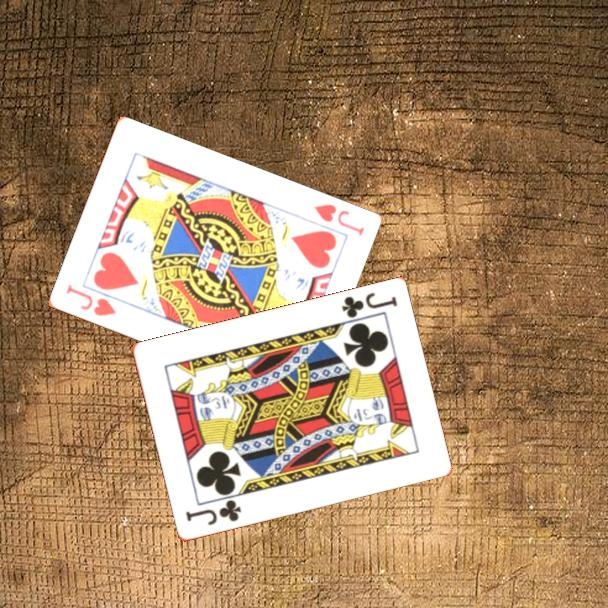c11: (182, 497, 244, 529), (338, 289, 400, 321)
h11: (62, 281, 119, 319), (310, 201, 367, 239)
